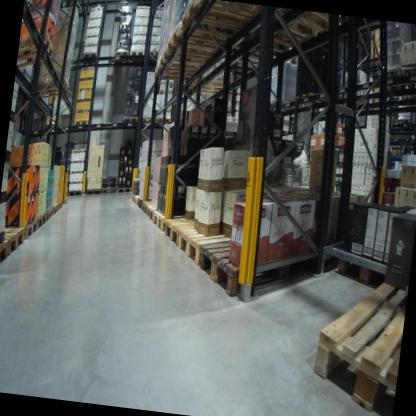pallet: (307, 256, 410, 416), (195, 226, 319, 310), (163, 17, 255, 64), (176, 217, 241, 280), (330, 237, 396, 296), (262, 6, 344, 53), (163, 207, 235, 257), (178, 0, 267, 39), (17, 27, 56, 76), (370, 60, 411, 105), (28, 71, 71, 108), (151, 62, 209, 89), (154, 46, 210, 70), (294, 84, 336, 112), (0, 222, 24, 261), (73, 47, 100, 77), (396, 62, 416, 99), (0, 236, 13, 278), (150, 205, 167, 234), (20, 216, 39, 239), (82, 183, 102, 203), (32, 208, 49, 231), (151, 111, 175, 127), (112, 183, 134, 199), (63, 185, 85, 201), (127, 44, 147, 61), (119, 111, 141, 126), (392, 114, 412, 129), (110, 45, 129, 60), (98, 183, 118, 197), (73, 111, 90, 127), (141, 198, 156, 216), (136, 113, 154, 125), (146, 206, 155, 223), (136, 196, 145, 210), (132, 0, 152, 6), (45, 208, 53, 223), (55, 198, 64, 210), (51, 204, 59, 215), (133, 194, 140, 205), (129, 195, 136, 203)
